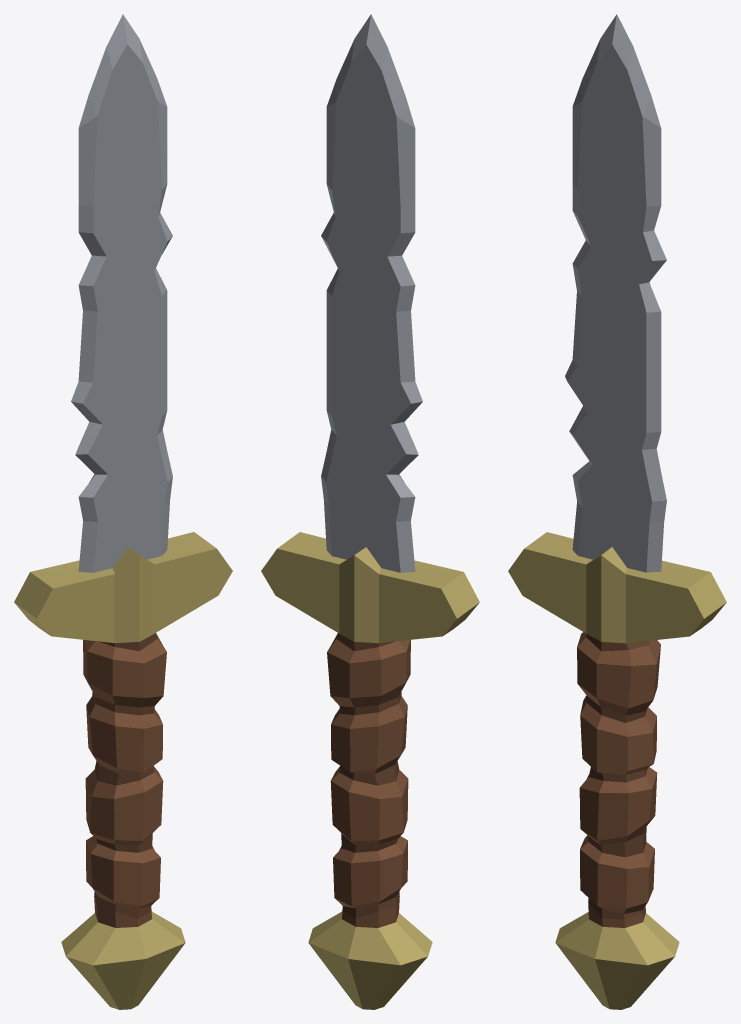
Rendered from Knife.glb.
The picture shows the model from 3 angles, left to right: view 1: azimuth 30°, elevation 25°; view 2: azimuth 150°, elevation 25°; view 3: azimuth 330°, elevation 25°; orthographic projection.
Parts seen in each view (by area): view 1: Dagger_2; view 2: Dagger_2; view 3: Dagger_2.
Boxes of the visible parts, x1=… form: Dagger_2: x1=14, y1=14, x2=232, y2=1009; Dagger_2: x1=261, y1=14, x2=479, y2=1009; Dagger_2: x1=508, y1=14, x2=726, y2=1009.
Bounding box in the file's own units: 0.644 × 3.11 × 0.2564.
